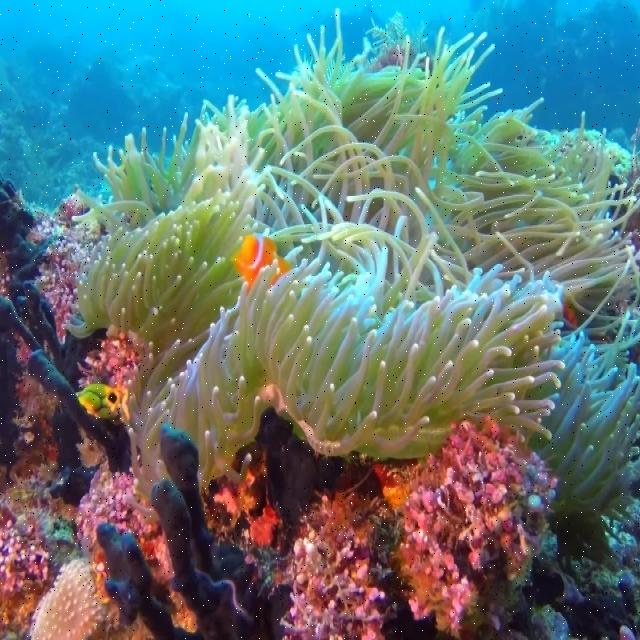fish: (230, 233, 294, 288)
reefs: (60, 6, 639, 568), (271, 413, 571, 638), (95, 408, 342, 639), (203, 440, 287, 552)
